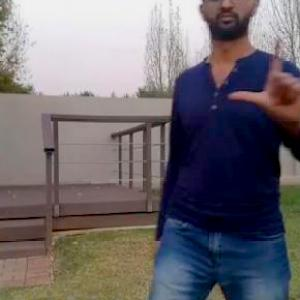land_hand: (217, 27, 299, 130)
